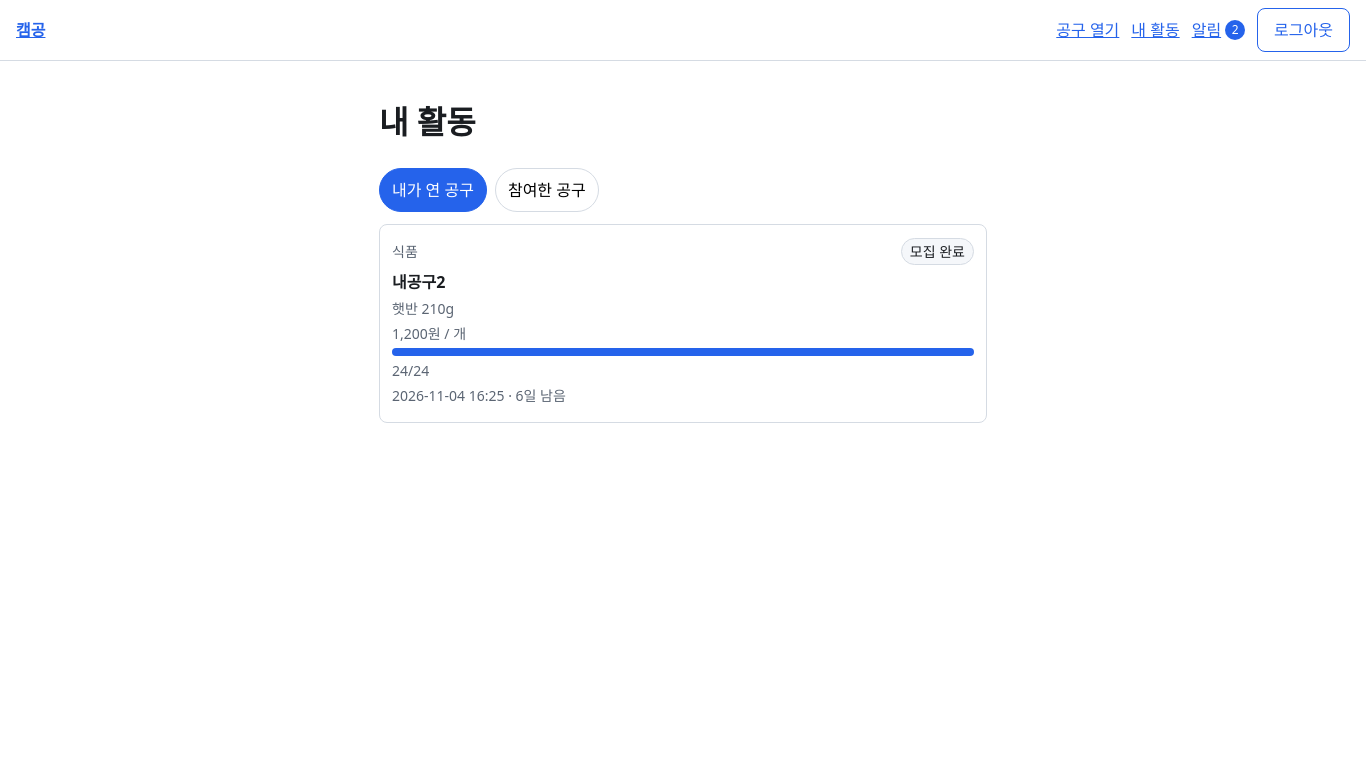
Test: 내 활동 (US5) › 취소된 공구는 어느 탭에도 보이지 않는다
Expected: the heading "내공구2" is shown, [392, 271, 445, 293]
Click the tab "참여한 공구". click: coordinates (547, 190)
box: [495, 168, 599, 212]
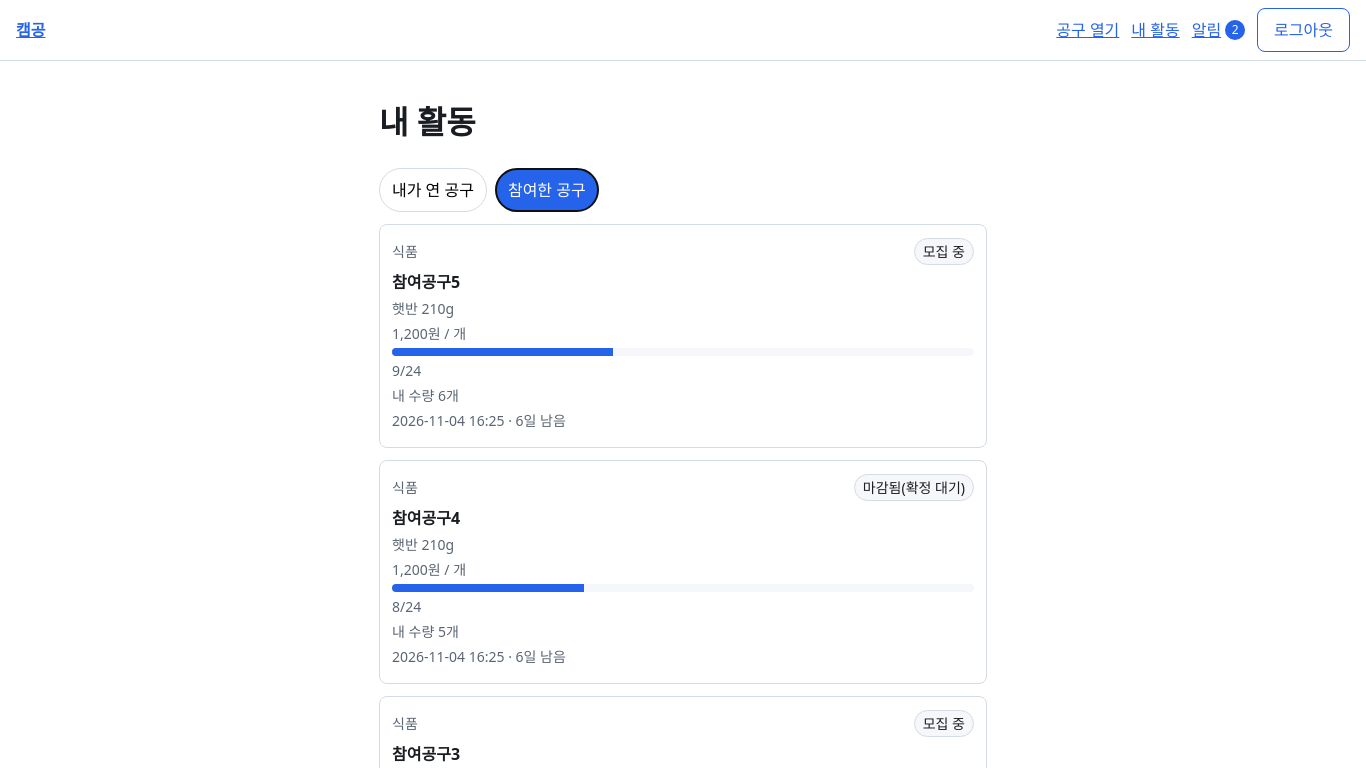
Now the heading "참여공구5" is shown, box [392, 271, 460, 293]
